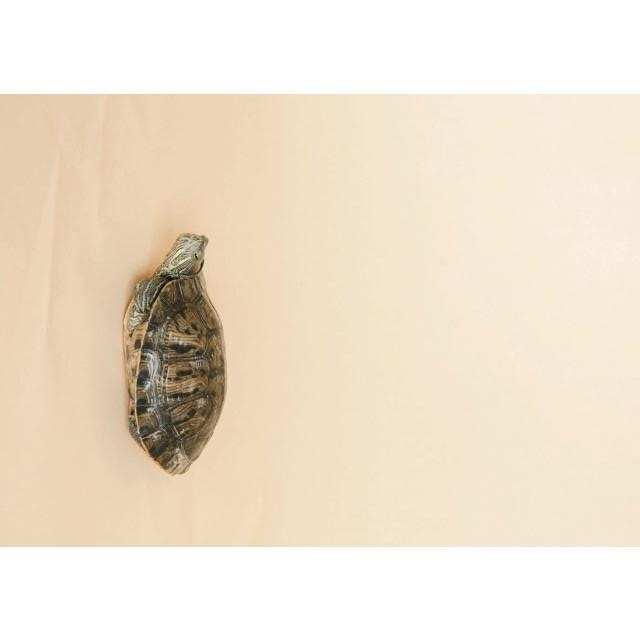turtle: (123, 233, 225, 478)
